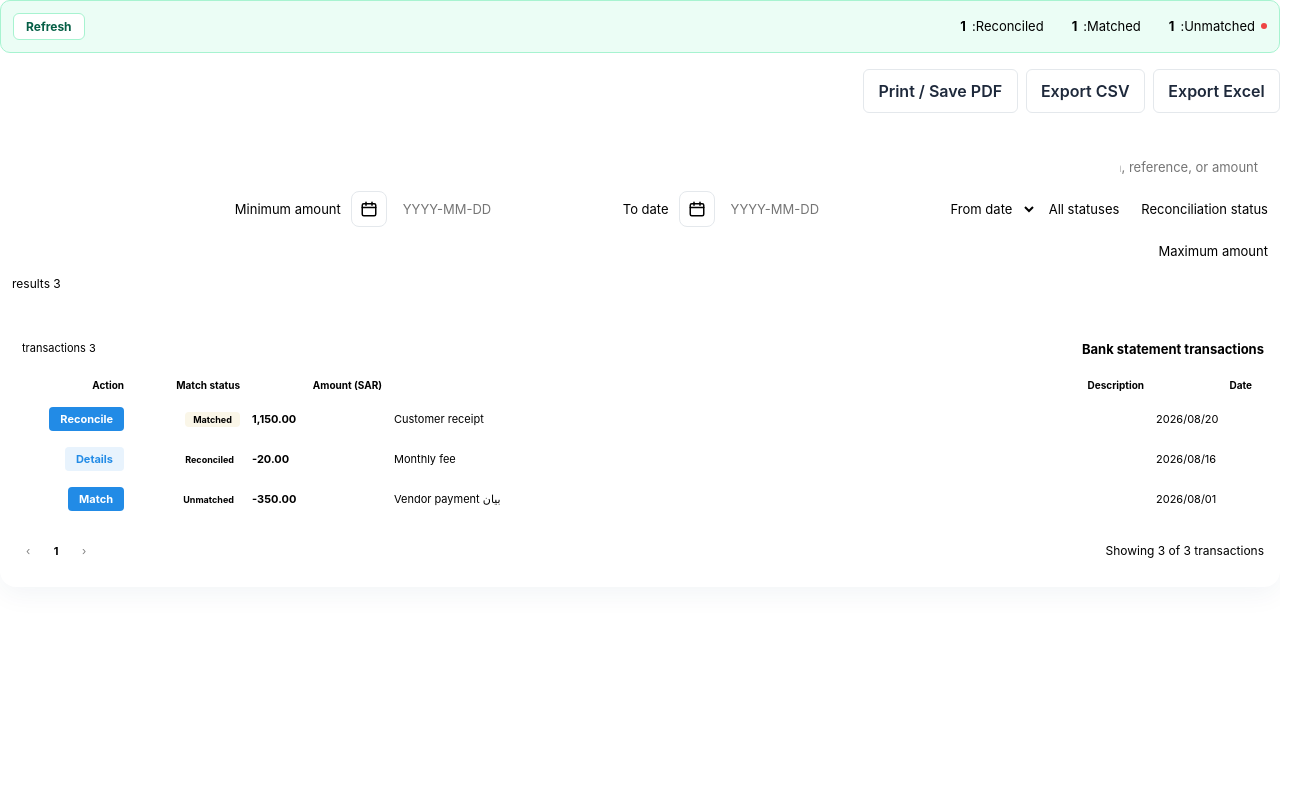
BankTransactionsView › searches description, reference, amount, and running balance with trimmed multilingual text
Type "  بيان  " into the search field named "Search transactions" at (1183, 167), box [1098,153,1268,181]
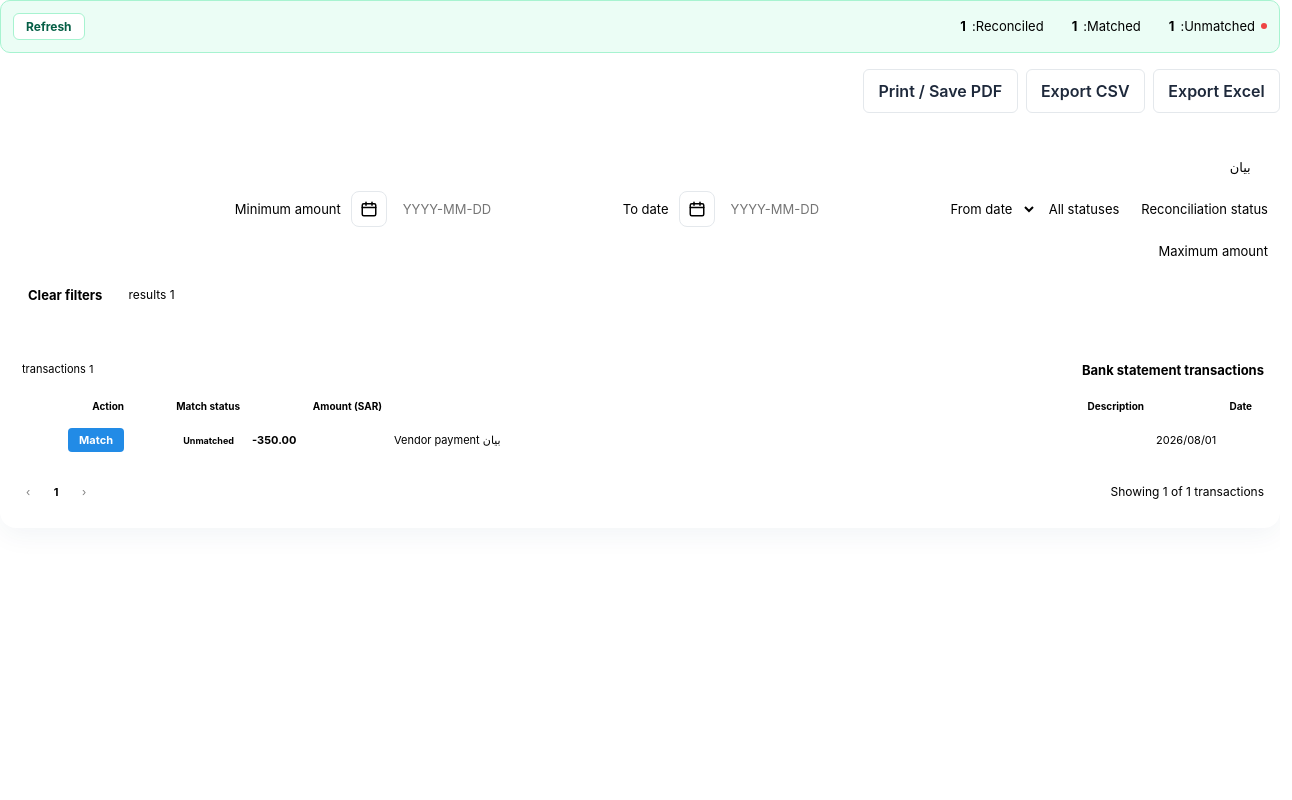
Expected: the text "Vendor payment بيان" is shown, [394,433,501,447]
Now the text "Customer receipt" is gone
Replace the text in the search field named "Search transactions" with "bank-pos" at (1183, 167), box [1098,153,1268,181]
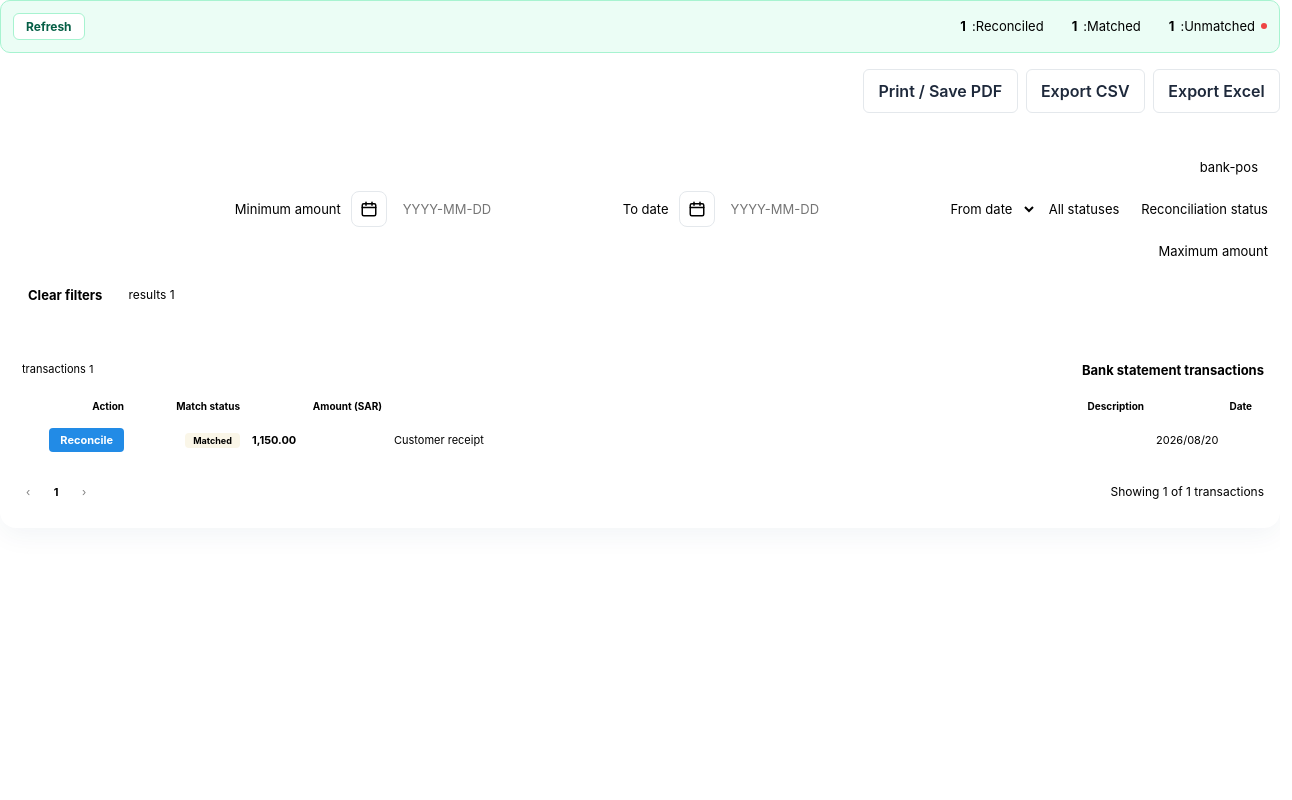
Now the text "Customer receipt" is shown, box [394,433,484,447]
Replace the text in the search field named "Search transactions" with "13650" at (1183, 167), box [1098,153,1268,181]
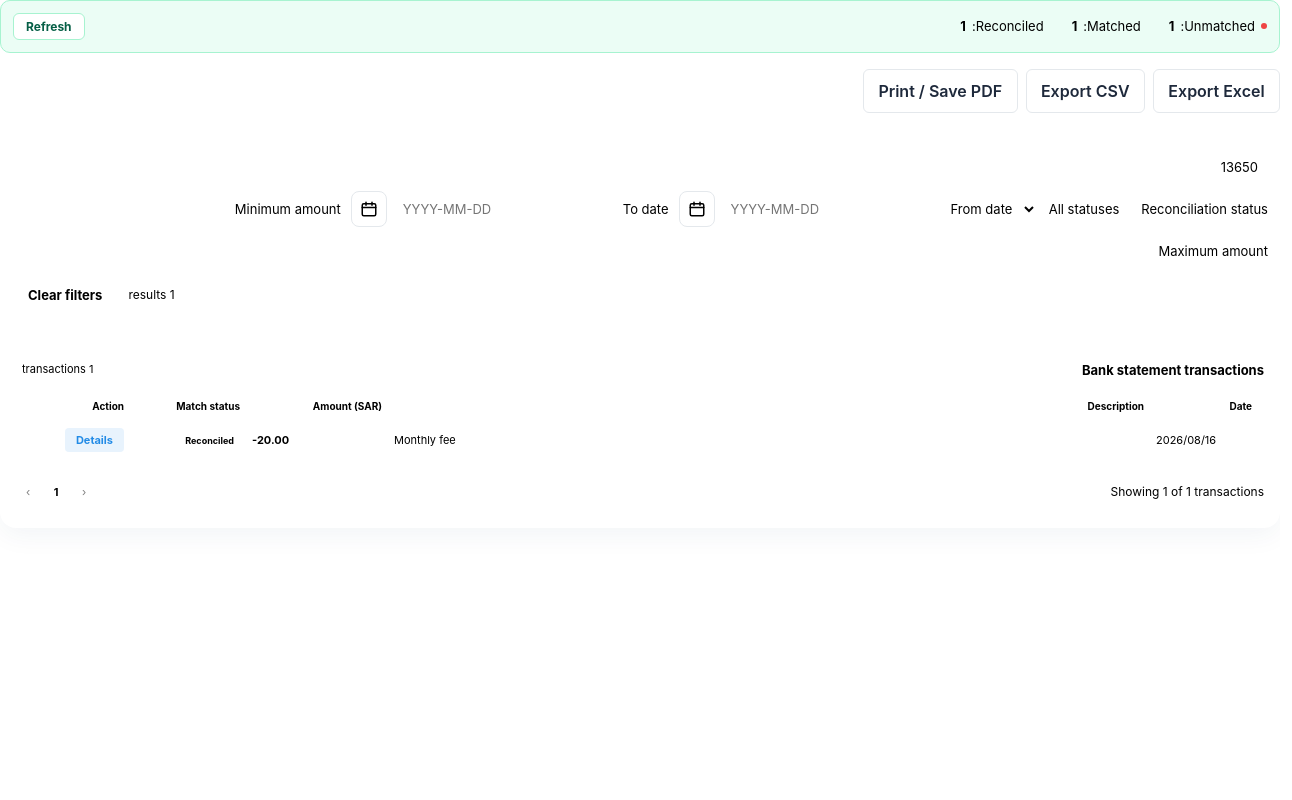
Now the text "Monthly fee" is shown, box [394,433,456,447]
